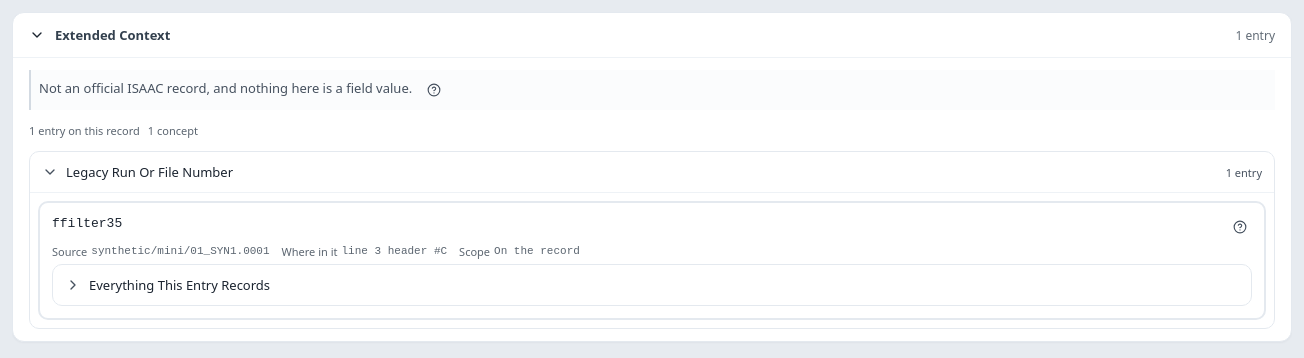
Scenario: the default reading is the scientist’s words, and nothing is lost › a concept reads as its humanized key; the key itself is in the title and one `?` away
Expected: the list item "Legacy Run Or File Number" is shown, 30,152 -> 1274,192
Click the button named "About This Entry" at (1240, 227), box 1228,215 -> 1252,239
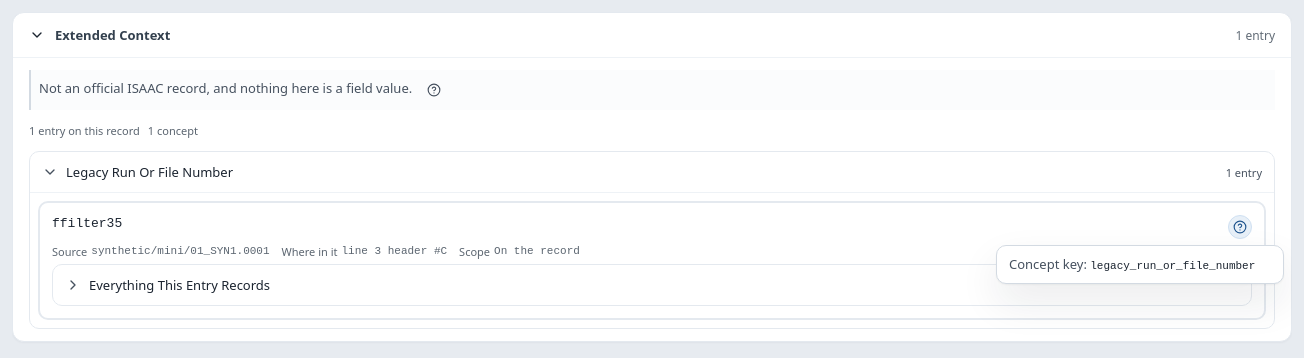
Now the text "legacy_run_or_file_number" is shown, box 1090,260 -> 1255,272
